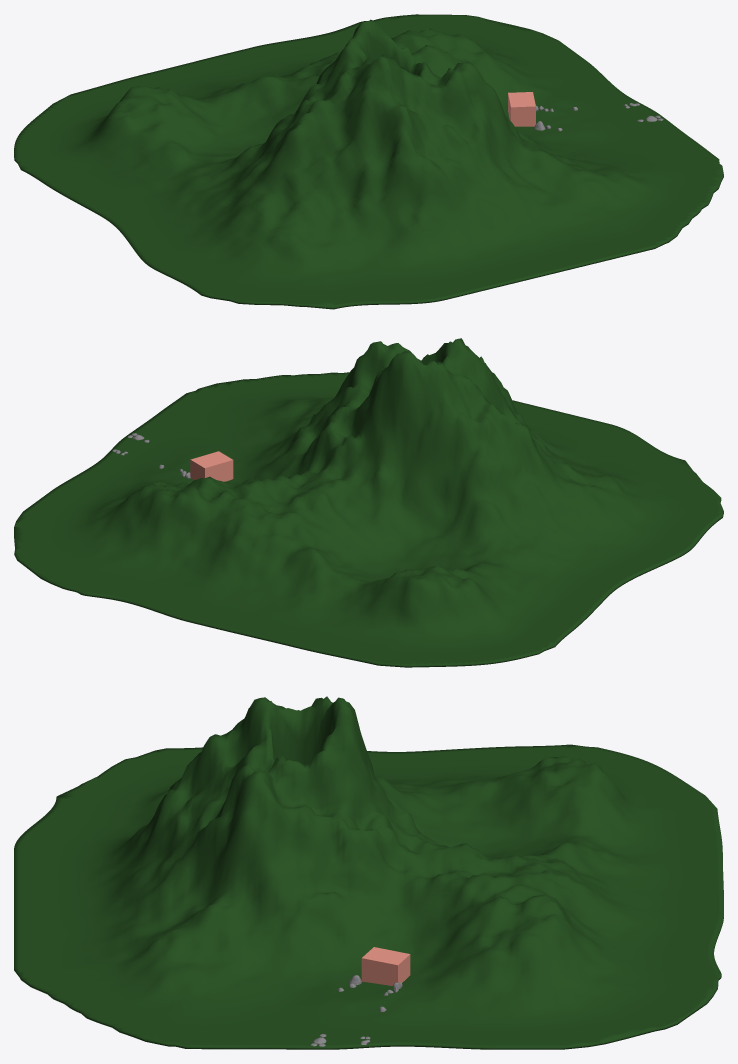
The model's file is LevelDesign Übung.fbx.
3 renders of one model, top to bottom at view 1: azimuth 30°, elevation 25°; view 2: azimuth 150°, elevation 25°; view 3: azimuth 270°, elevation 25°, orthographic. The views are drawn at different scales.
Parts seen in each view (by area): view 1: Landscape, Cube; view 2: Landscape, Cube; view 3: Landscape, Cube.
Boxes of the visible parts, x1,y1,x2,y2 form: Landscape: (14, 14, 723, 309); Cube: (508, 92, 535, 126); Landscape: (14, 338, 723, 667); Cube: (190, 451, 233, 481); Landscape: (14, 696, 723, 1049); Cube: (361, 947, 410, 985).
Size of the model in its own units: 346 by 106 by 341.
